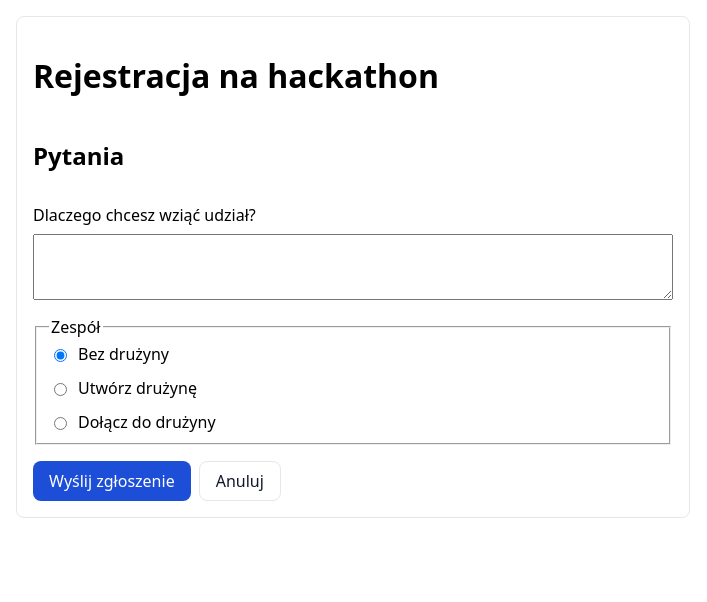
Test case: RegistrationEntryPage › creates a team and displays its join code
Type "Odpowiedź" into the text box labelled "Dlaczego chcesz wziąć udział?" at [353, 267], box [33,234,673,300]
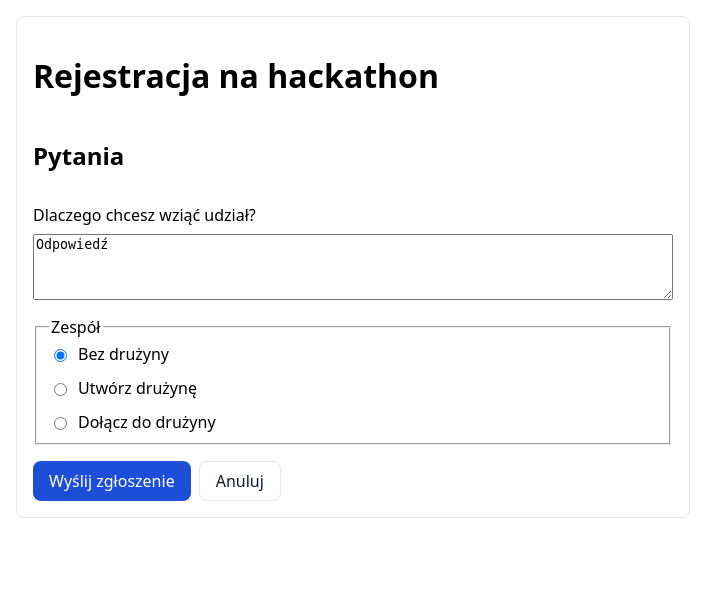
Click the radio button labelled "Utwórz drużynę" at [60, 390], box [54,383,67,396]
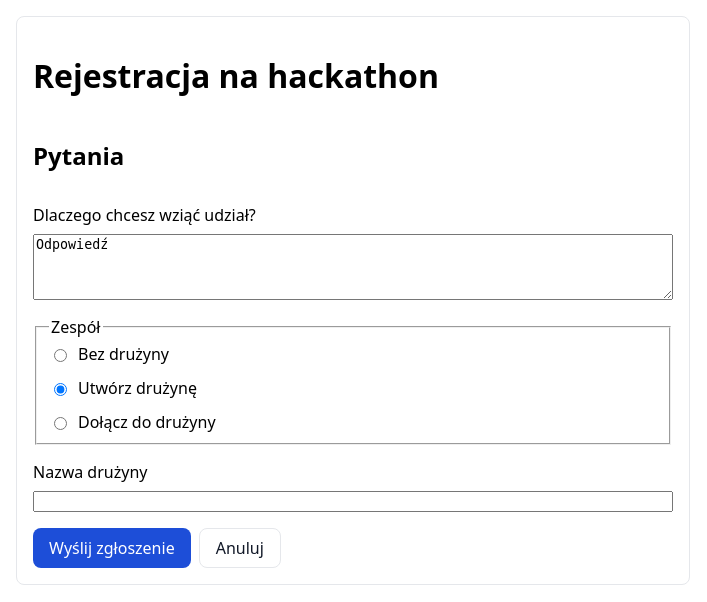
Type "Byte Buccaneers" into the field labelled "Nazwa drużyny" at [353, 502], box [33,491,673,512]
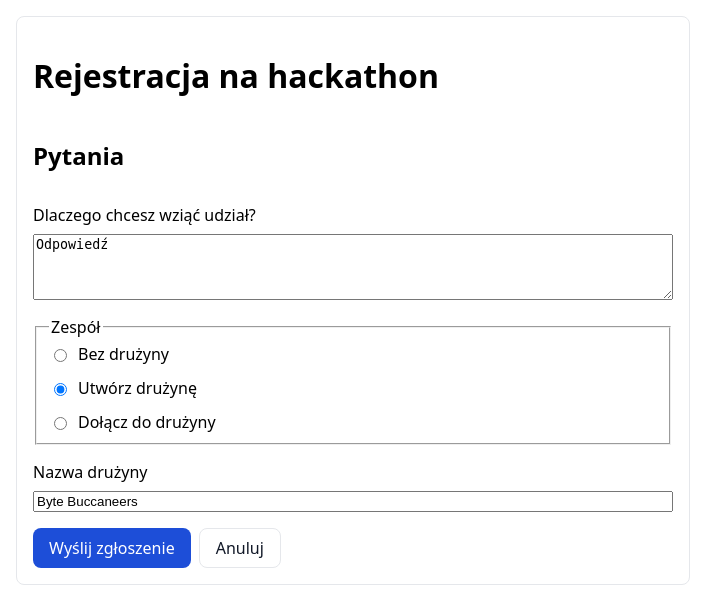
Click the button "Wyślij zgłoszenie" at [112, 548], box [33,528,191,568]
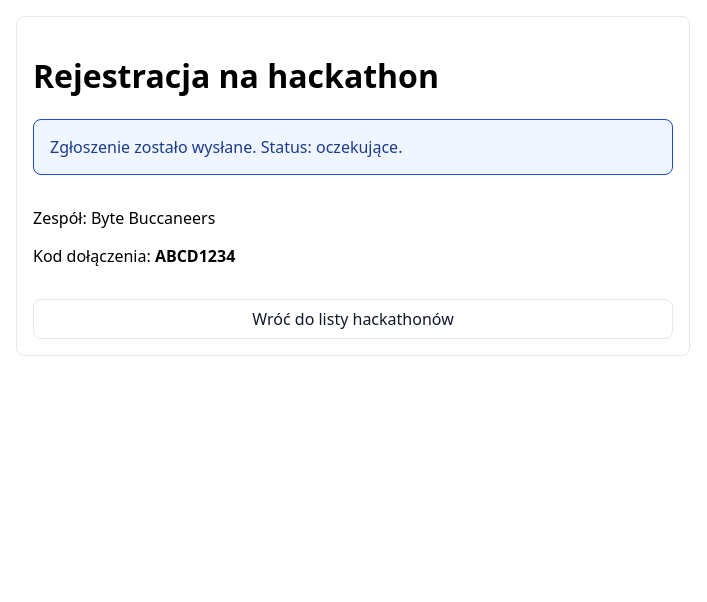
Check: the text "ABCD1234" is shown, box [155,245,235,267]
